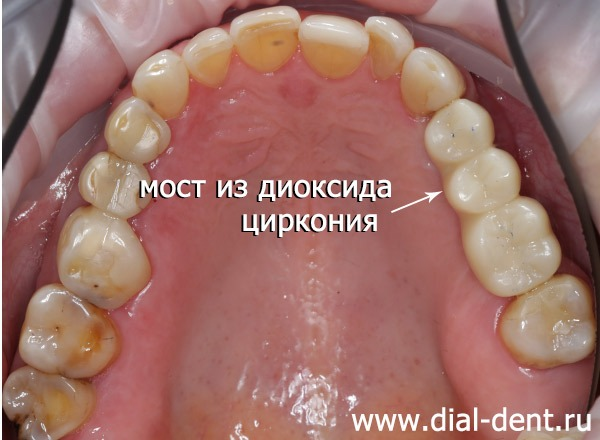UL1BC_healthy: (426, 100, 493, 161)
UL1M_healthy: (465, 197, 562, 297)
UL2BC_healthy: (446, 148, 521, 209)
UL2M_healthy: (500, 276, 596, 364)
ULCI_healthy: (301, 15, 368, 77)
ULC_healthy: (402, 46, 465, 113)
ULLI_healthy: (367, 16, 414, 77)
UR1BC_healthy: (104, 97, 170, 162)
UR1M_healthy: (58, 207, 149, 309)
UR2BC_healthy: (79, 152, 138, 218)
UR2M_decay: (19, 285, 115, 378)
UR3M_decay: (4, 370, 88, 439)
URCI_decay: (233, 6, 300, 72)
URC_healthy: (133, 49, 187, 116)
URLI_healthy: (183, 28, 232, 85)
